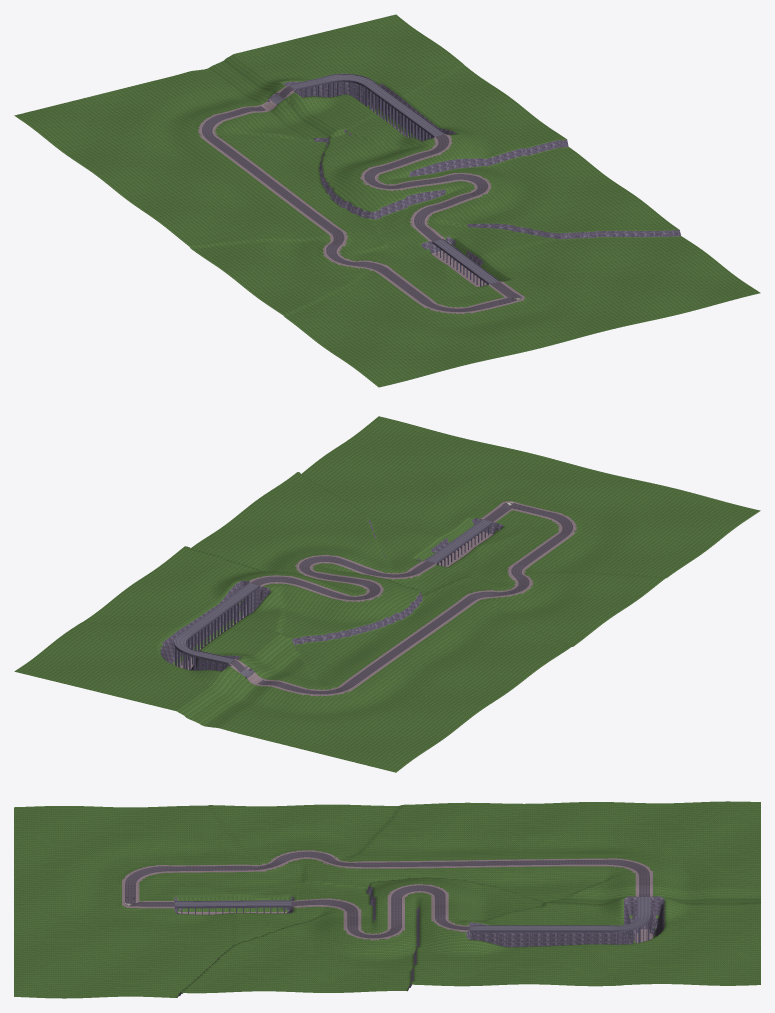
3 renders of one model, top to bottom at view 1: azimuth 30°, elevation 25°; view 2: azimuth 150°, elevation 25°; view 3: azimuth 270°, elevation 25°, orthographic. The views are drawn at different scales.
Visible parts, largest first — view 1: Land, Road 07 deck, Road 07 deck Piers, Road 02 deck, Road 03 road, Road 04 road, Road 06 road; view 2: Land, Road 07 deck, Road 07 deck Piers, Road 02 deck, Road 06 road, Road 04 road; view 3: Land, Road 07 deck, Road 02 deck, Road 05 road, Road 07 deck Piers, Road 03 road, Road 12 road, Road 15 road, Road 16 road, Road 17 road, Road 11 road, Road 13 road (+3 smaller).
Boxes of the visible parts, box(x1,y1,x2,y2) form: Land: box(14, 14, 760, 387); Road 07 deck: box(289, 73, 444, 137); Road 07 deck Piers: box(295, 82, 433, 140); Road 02 deck: box(432, 238, 499, 284); Road 03 road: box(412, 198, 459, 241); Road 04 road: box(431, 173, 489, 202); Road 06 road: box(376, 134, 450, 172); Land: box(14, 416, 760, 772); Road 07 deck: box(173, 582, 259, 664); Road 07 deck Piers: box(175, 590, 255, 670); Road 02 deck: box(426, 519, 493, 564); Road 06 road: box(250, 576, 346, 599); Road 04 road: box(298, 555, 354, 579); Land: box(14, 801, 760, 998); Road 07 deck: box(470, 896, 650, 932); Road 02 deck: box(175, 900, 291, 908); Road 05 road: box(390, 884, 446, 917); Road 07 deck Piers: box(476, 921, 649, 947); Road 03 road: box(291, 899, 359, 921); Road 12 road: box(520, 859, 616, 865); Road 15 road: box(254, 851, 336, 870); Road 16 road: box(157, 865, 253, 872); Road 17 road: box(123, 866, 159, 904); Road 11 road: box(614, 859, 650, 895); Road 13 road: box(424, 860, 519, 867).
Bounding box in the file's own units: 620 × 51.06 × 1025.
7 materials, 7 textured.
